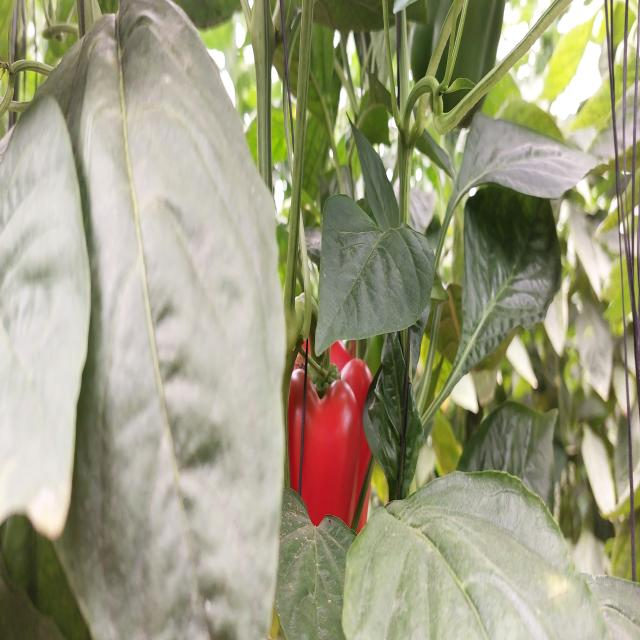Red-Ready-to-Harvest: (285, 319, 379, 579)
